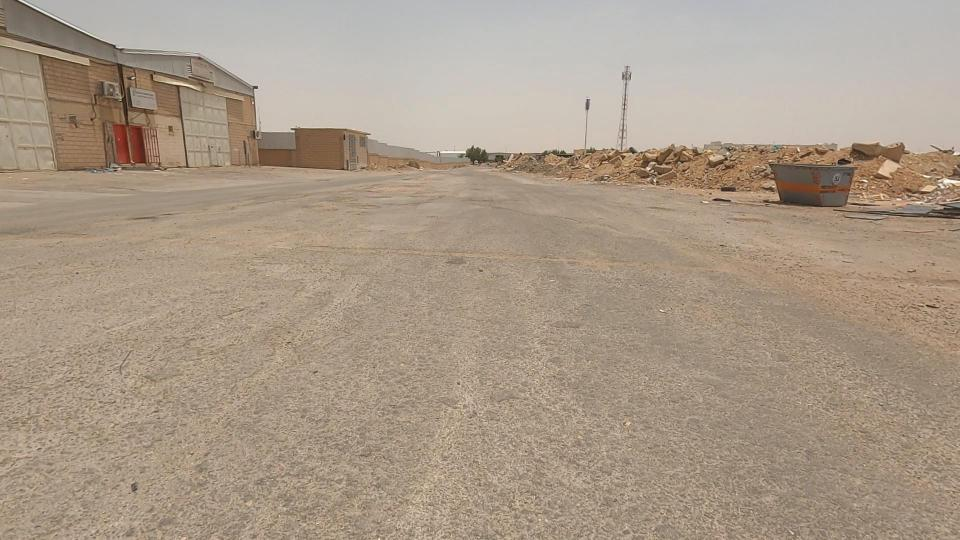GARBAGE: (887, 149, 960, 229), (637, 151, 682, 219)
POTHOLES: (217, 278, 356, 401), (83, 184, 216, 283), (315, 159, 420, 240), (365, 163, 481, 223)
